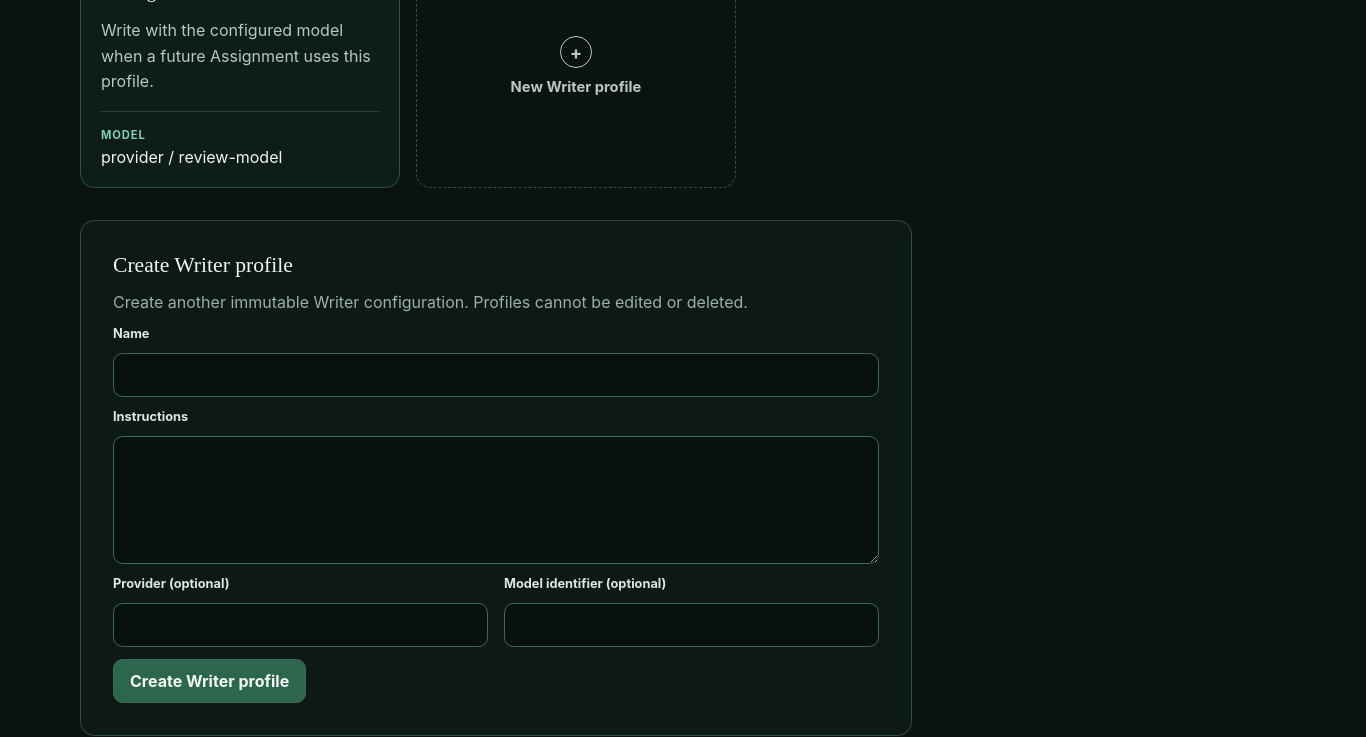
AgentProfilesWorkspace › posts exact no-model configuration and shows the authoritative created profile without reload
(page scrolled)
Type "Custom Writer" into the field labelled "Name" at (496, 375), box [113,352,879,397]
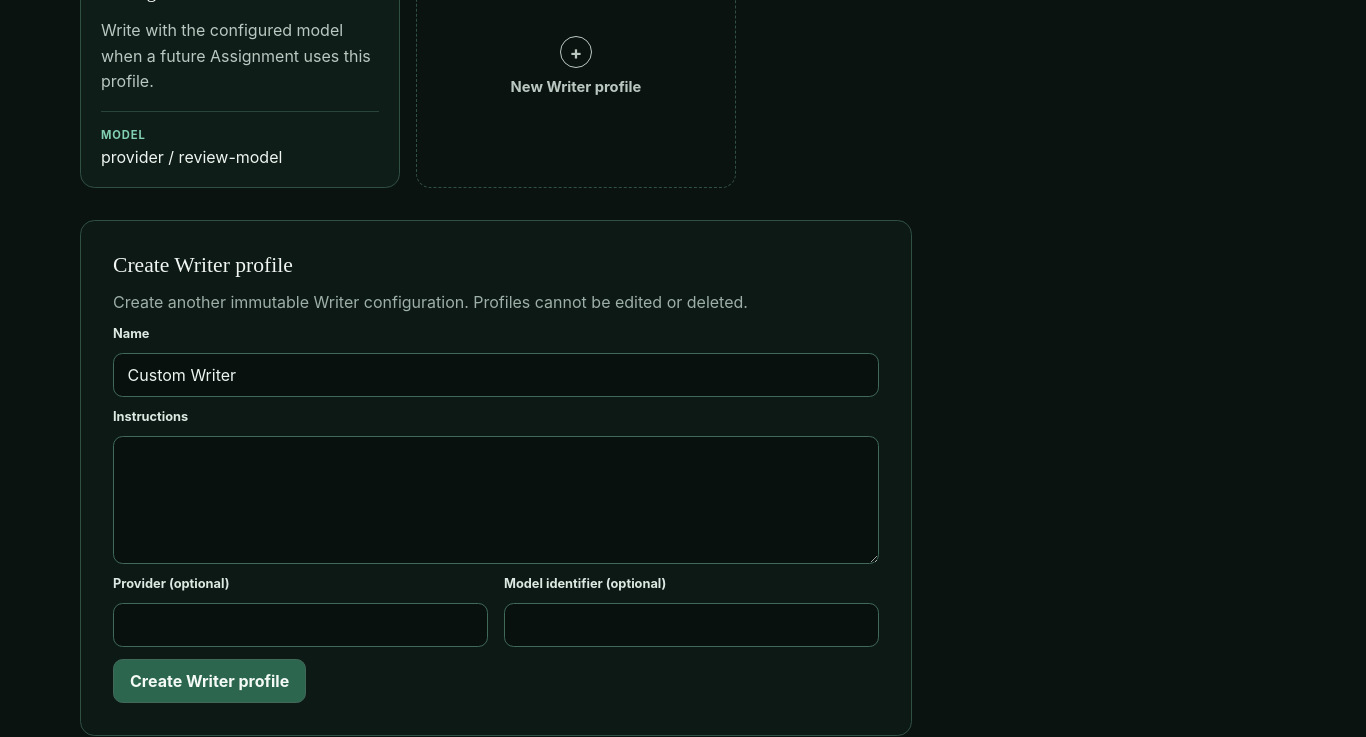
Type "Use a specialist angle." into the text box labelled "Instructions" at (496, 500), box [113,436,879,564]
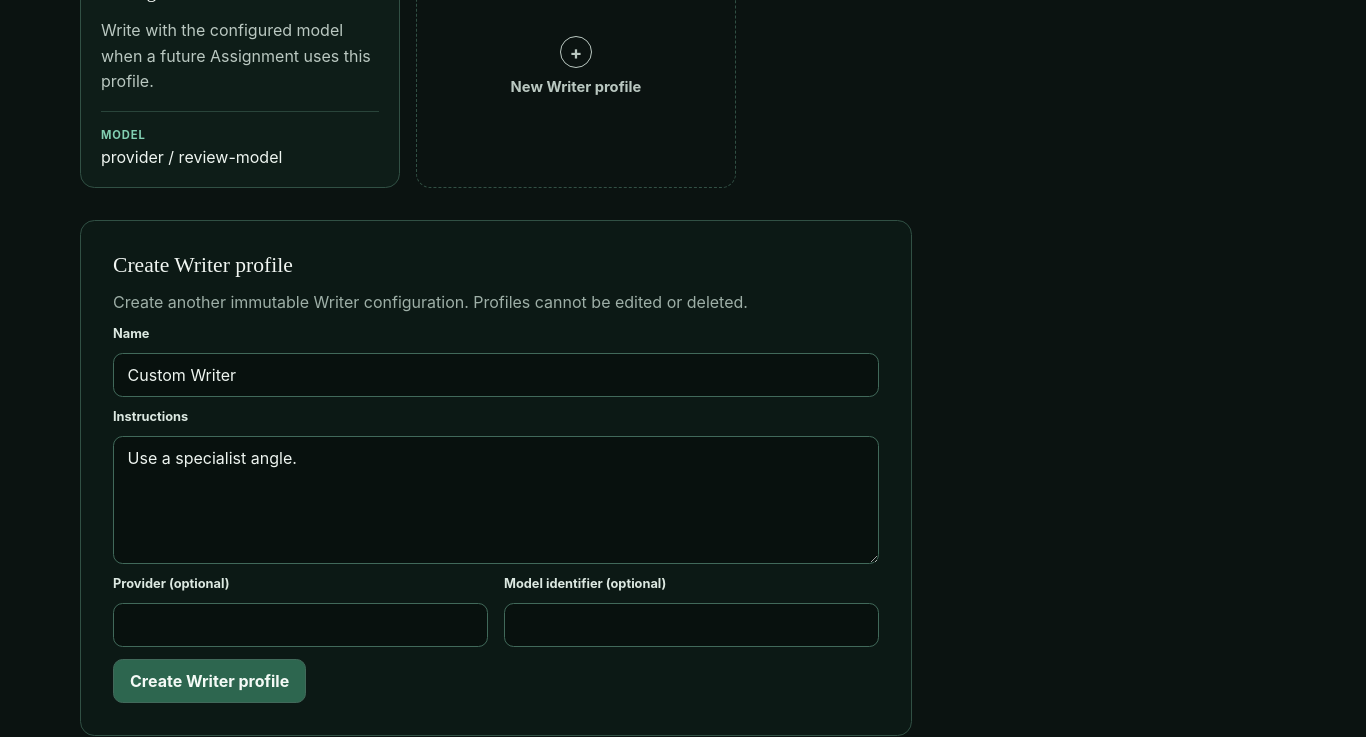
Click the button "Create Writer profile" at (210, 681), box [113,659,306,703]
(page scrolled)
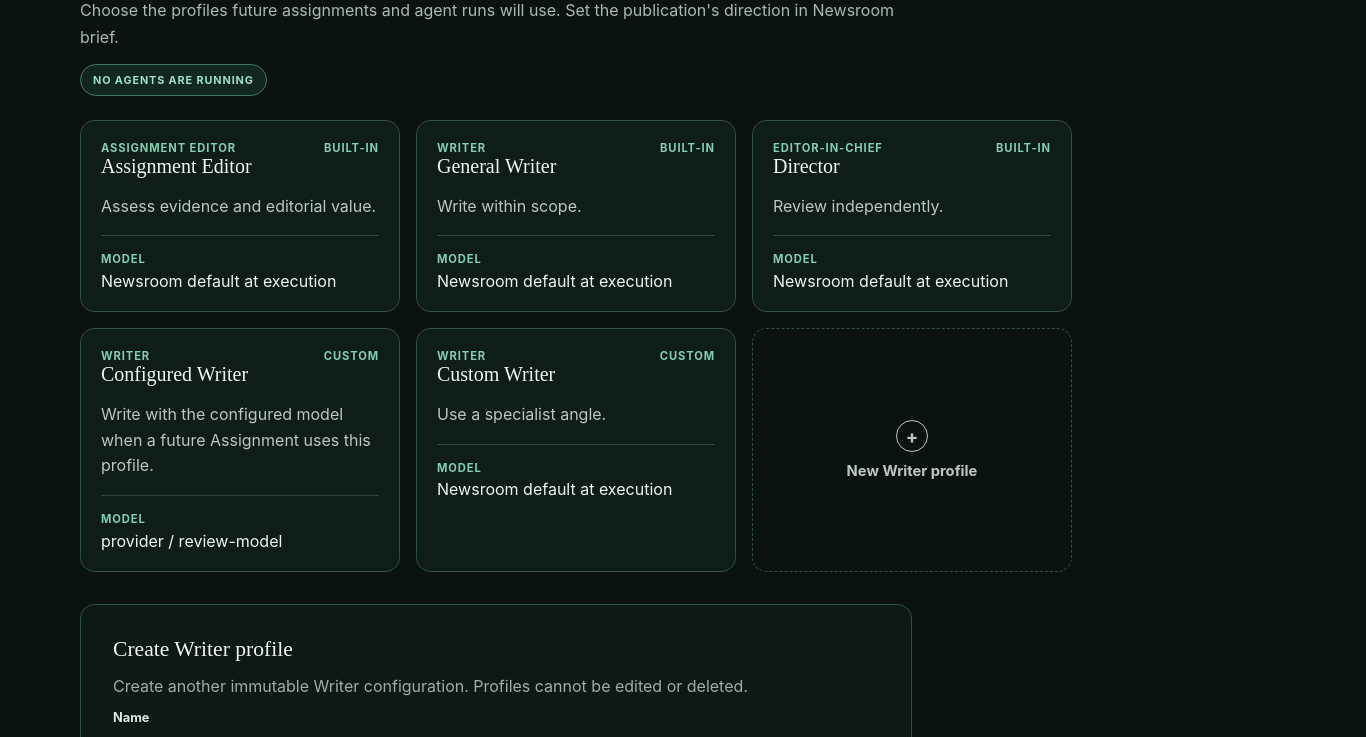
Expected: the heading "General Writer" is shown, [437,155,556,178]
Result: the heading "Custom Writer" is shown at [437,363,555,386]
